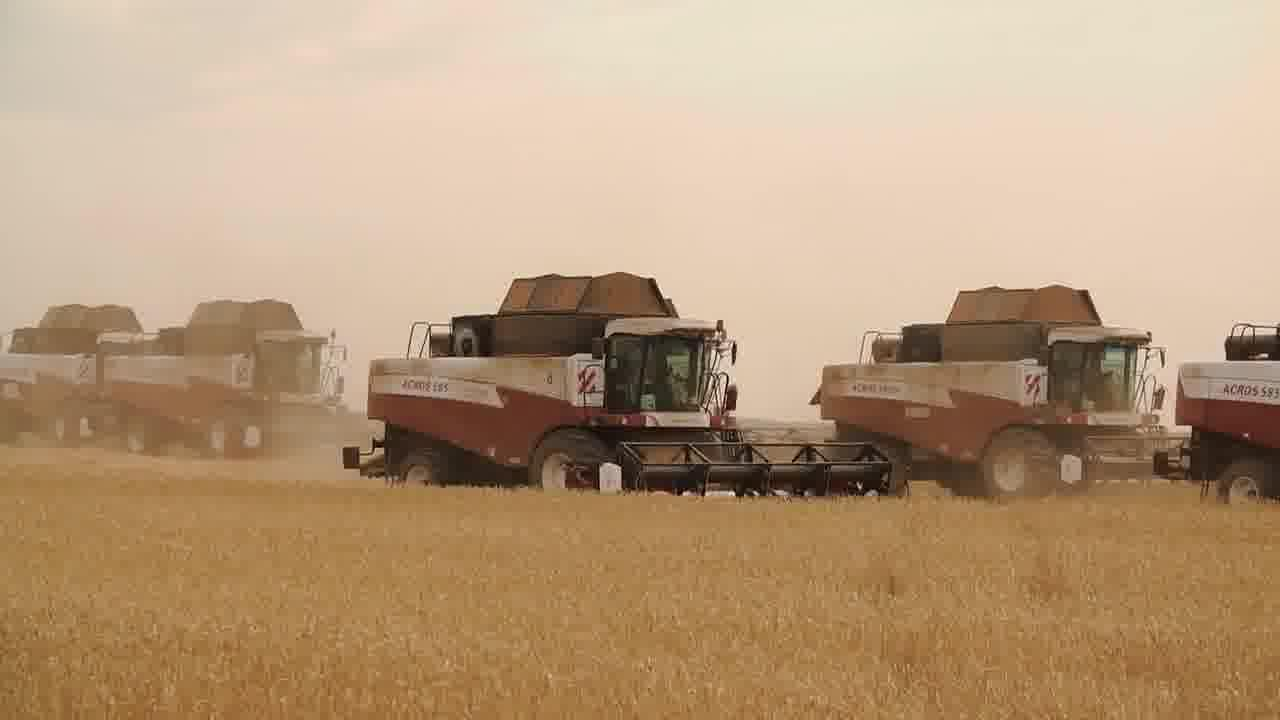combine harvester: (335, 265, 901, 510), (804, 283, 1172, 502), (69, 296, 369, 481), (1147, 301, 1280, 508), (0, 296, 151, 469)
